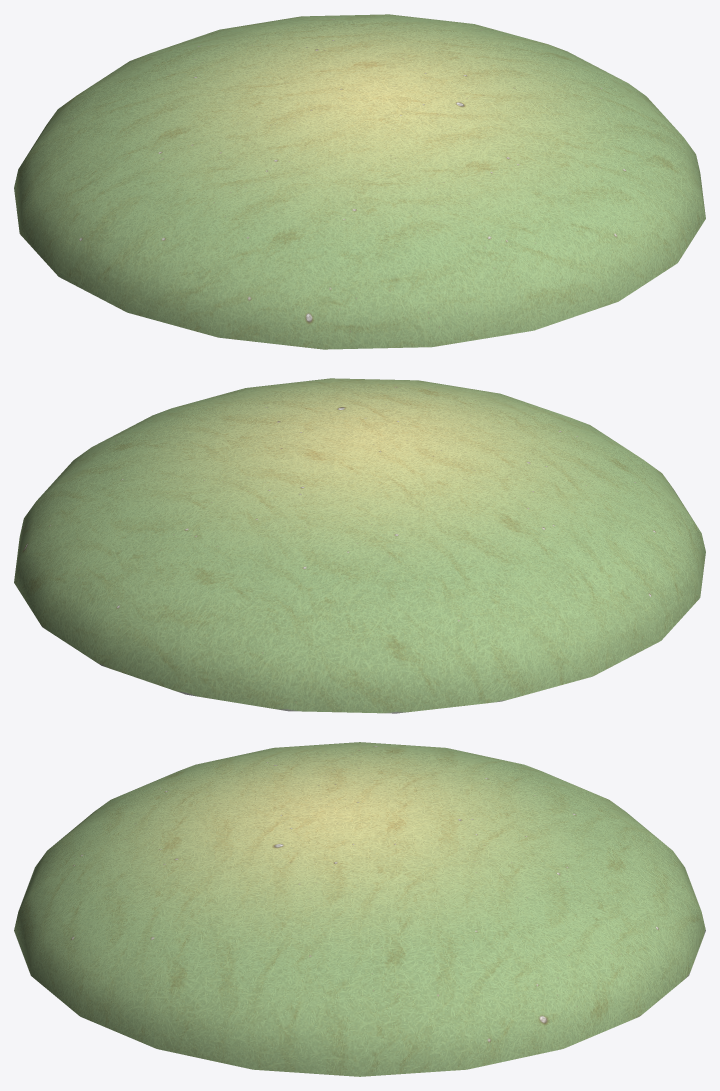
The model's file is Floor_A.fbx.
3 views of the same model, one above another, from view 1: azimuth 30°, elevation 25°; view 2: azimuth 150°, elevation 25°; view 3: azimuth 270°, elevation 25° (orthographic).
Visible parts, largest first — view 1: Floor_Floor_A; view 2: Floor_Floor_A; view 3: Floor_Floor_A.
Boxes of the visible parts, box(x1,y1,x2,y2) form: Floor_Floor_A: box(14, 14, 705, 349); Floor_Floor_A: box(14, 378, 705, 713); Floor_Floor_A: box(14, 742, 705, 1076).
Size of the model in its own units: 1013 by 193 by 1013.
